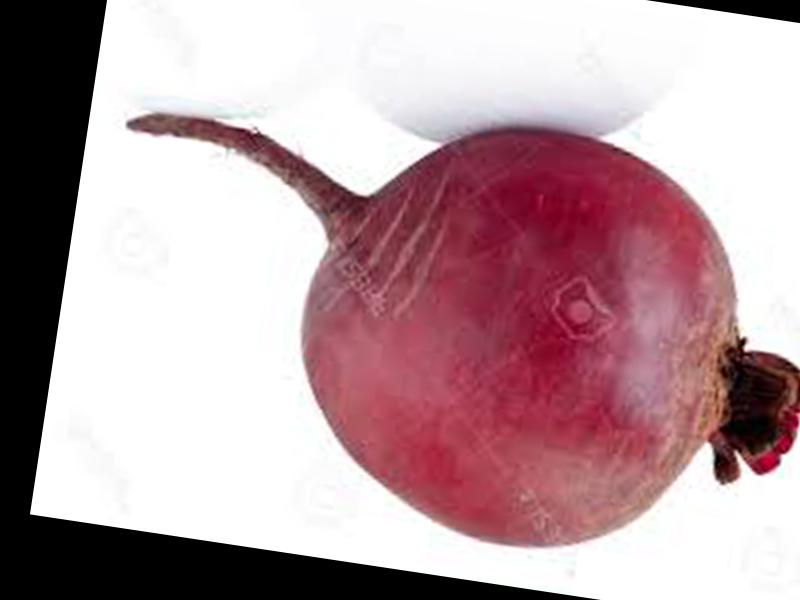Beet: (73, 68, 800, 581)
